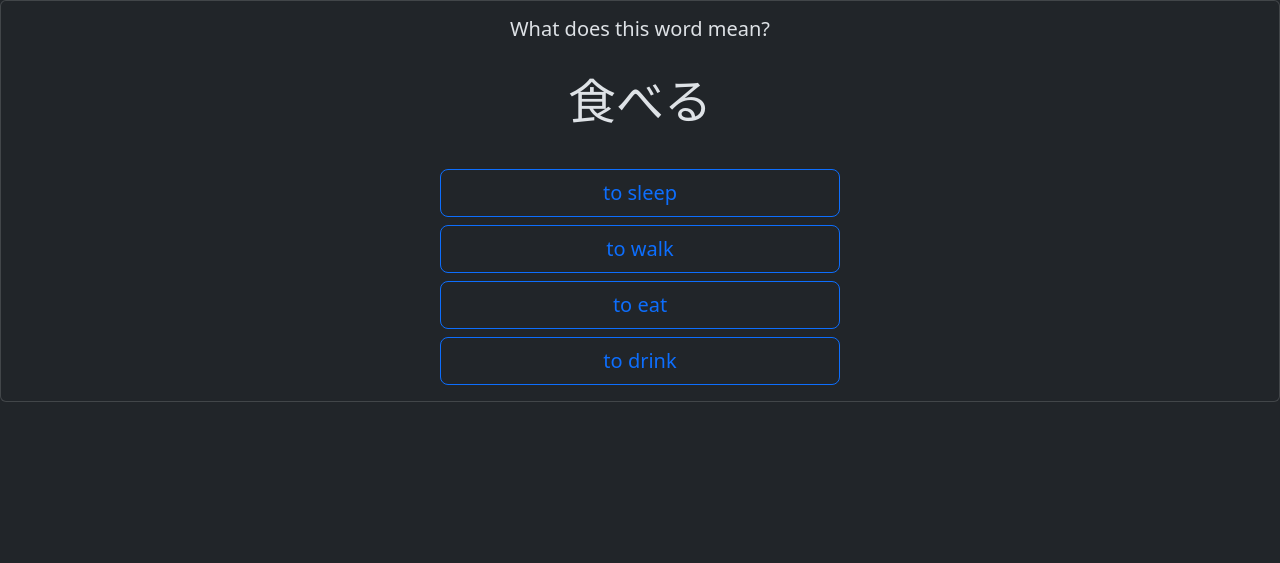
Scenario: KanjiQuiz › shows retry button for incorrect answer
This screenshot has width=1280, height=563.
Click the button "to drink" at coordinates (640, 361), box [440,337,840,385]
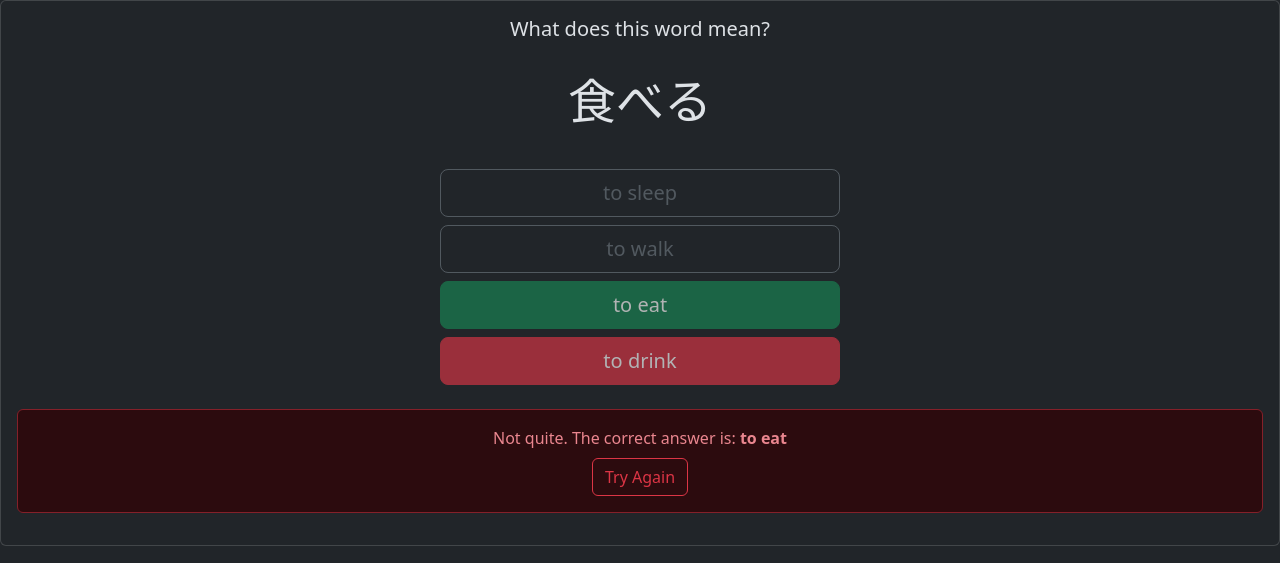
Expected: the button with test id "retry-button" is shown, [592,458,688,496]
